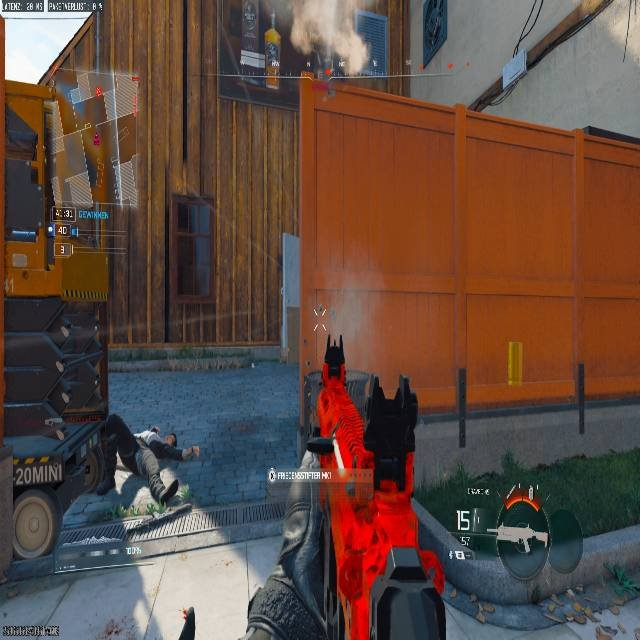head: (321, 345, 347, 384)
